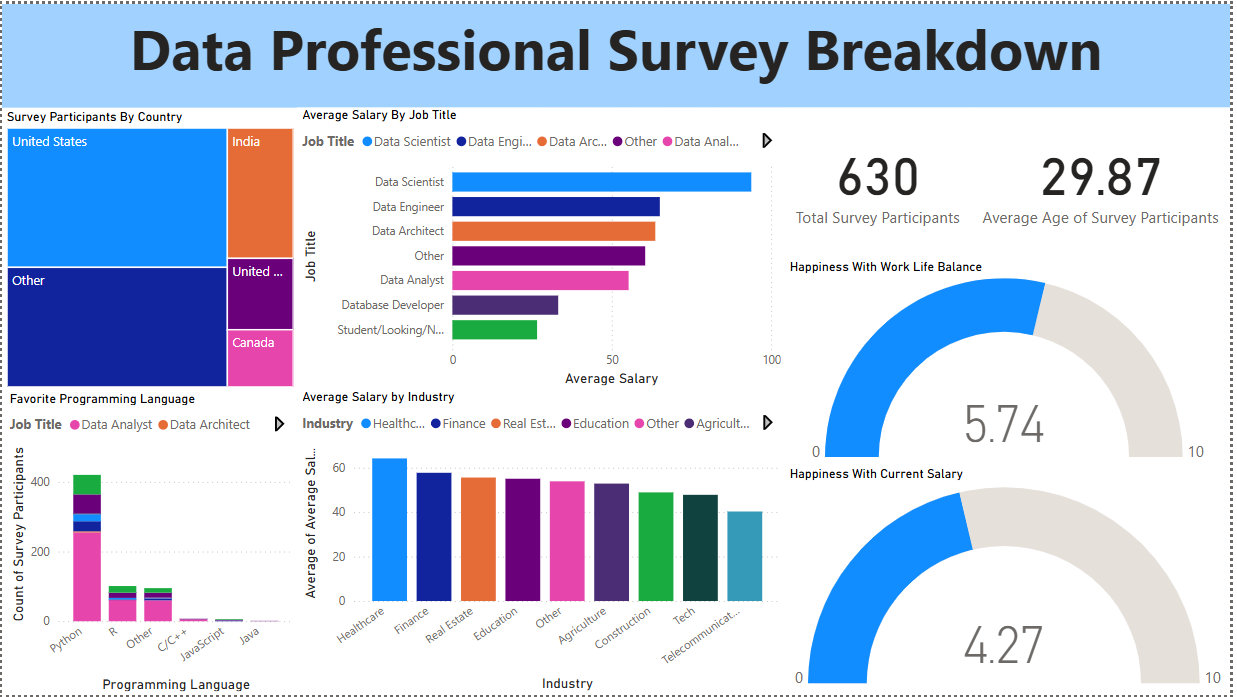

The page's visual inventory and layout, read from the dashboard file:
{"tool":"powerbi","page":{"name":"Page 1","canvas":[1280,720],"ordinal":0},"visuals":[{"type":"textbox","box":[0,0,1279.4,107.7],"z":0},{"type":"card","fields":{"Values":["CountNonNull(Data Professional Survey.Unique ID)"]},"box":[815,107.5,192.5,150],"z":1000},{"type":"card","fields":{"Values":["Avg(Data Professional Survey.Q10 - Current Age)"]},"box":[1007.5,107.5,272.5,150],"z":2000},{"type":"barChart","title":"Average Salary  By Job Title","fields":{"Category":["Data Professional Survey.Q1 - Which Title Best Fits your Current Role?.1"],"Y":["Avg(Data Professional Survey.Average Salary)"],"Series":["Data Professional Survey.Q1 - Which Title Best Fits your Current Role?.1"]},"box":[308,108,508,294],"z":3000},{"type":"columnChart","title":"Favorite Programming Language","fields":{"Category":["Data Professional Survey.Q5 - Favorite Programming Language.1"],"Y":["CountNonNull(Data Professional Survey.Unique ID)"],"Series":["Data Professional Survey.Q1 - Which Title Best Fits your Current Role?.1"]},"box":[2.5,402.5,305,317.5],"z":4000},{"type":"treemap","title":"Survey Participants By Country","fields":{"Group":["Data Professional Survey.Q11 - Which Country do you live in?.1"],"Values":["CountNonNull(Data Professional Survey.Q11 - Which Country do you live in?.1)"]},"box":[0,110,308,294],"z":5000},{"type":"gauge","title":"Happiness With Work Life Balance","fields":{"Y":["Avg(Data Professional Survey.Q6 - How Happy are you in your Current Position with the following? (Work/Life Balance))"],"MinValue":["Min(Data Professional Survey.Q6 - How Happy are you in your Current Position with the following? (Work/Life Balance))"],"MaxValue":["Max(Data Professional Survey.Q6 - How Happy are you in your Current Position with the following? (Work/Life Balance))"]},"box":[816,266,464,216],"z":6000},{"type":"gauge","title":"Happiness With Current Salary","fields":{"Y":["Avg(Data Professional Survey.Q6 - How Happy are you in your Current Position with the following? (Salary))"],"MinValue":["Min(Data Professional Survey.Q6 - How Happy are you in your Current Position with the following? (Salary))"],"MaxValue":["Max(Data Professional Survey.Q6 - How Happy are you in your Current Position with the following? (Salary))"]},"box":[816,482,464,238],"z":7000},{"type":"lineStackedColumnComboChart","title":"Average Salary by Industry","fields":{"Category":["Data Professional Survey.Q4 - What Industry do you work in?.1"],"Y":["Avg(Data Professional Survey.Average Salary)"],"Series":["Data Professional Survey.Q4 - What Industry do you work in?.1"]},"box":[308,402,508,318],"z":9000}]}

Visuals, with their boxes in screenshot pixels (x1, y1, x2, y2), scaled from the page's 1280x720 canvas onto the 1237x697 screenshot:
textbox: <region>0, 0, 1236, 104</region>
card - CountNonNull(Data Professional Survey.Unique ID): <region>788, 104, 974, 249</region>
card - Avg(Data Professional Survey.Q10 - Current Age): <region>974, 104, 1236, 249</region>
"Average Salary  By Job Title" barChart: <region>298, 105, 789, 389</region>
"Favorite Programming Language" columnChart: <region>2, 390, 297, 696</region>
"Survey Participants By Country" treemap: <region>0, 106, 298, 391</region>
"Happiness With Work Life Balance" gauge: <region>789, 258, 1236, 467</region>
"Happiness With Current Salary" gauge: <region>789, 467, 1236, 696</region>
"Average Salary by Industry" lineStackedColumnComboChart: <region>298, 389, 789, 696</region>
